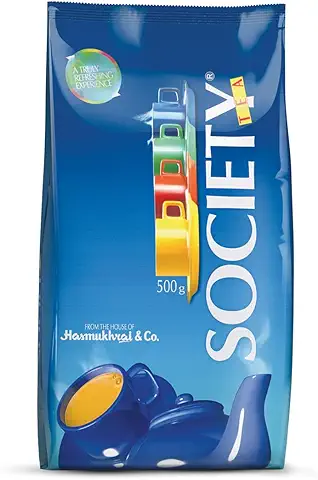Tea: (41, 6, 291, 472)
